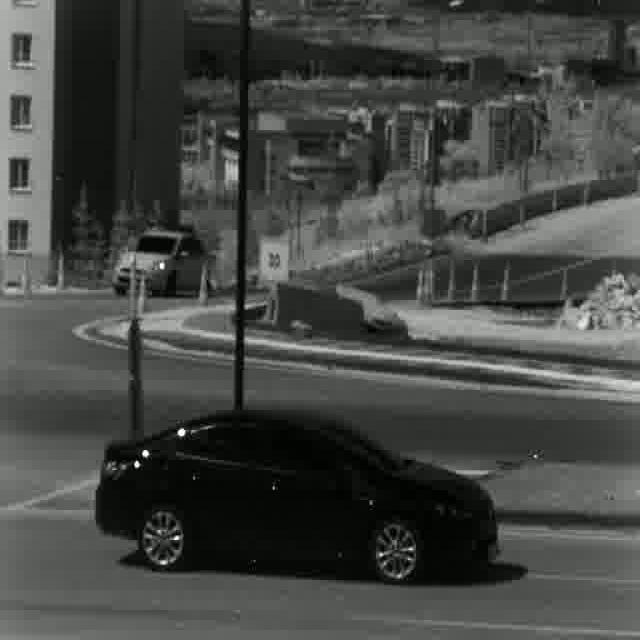Car: (93, 410, 500, 588), (110, 230, 208, 298)
